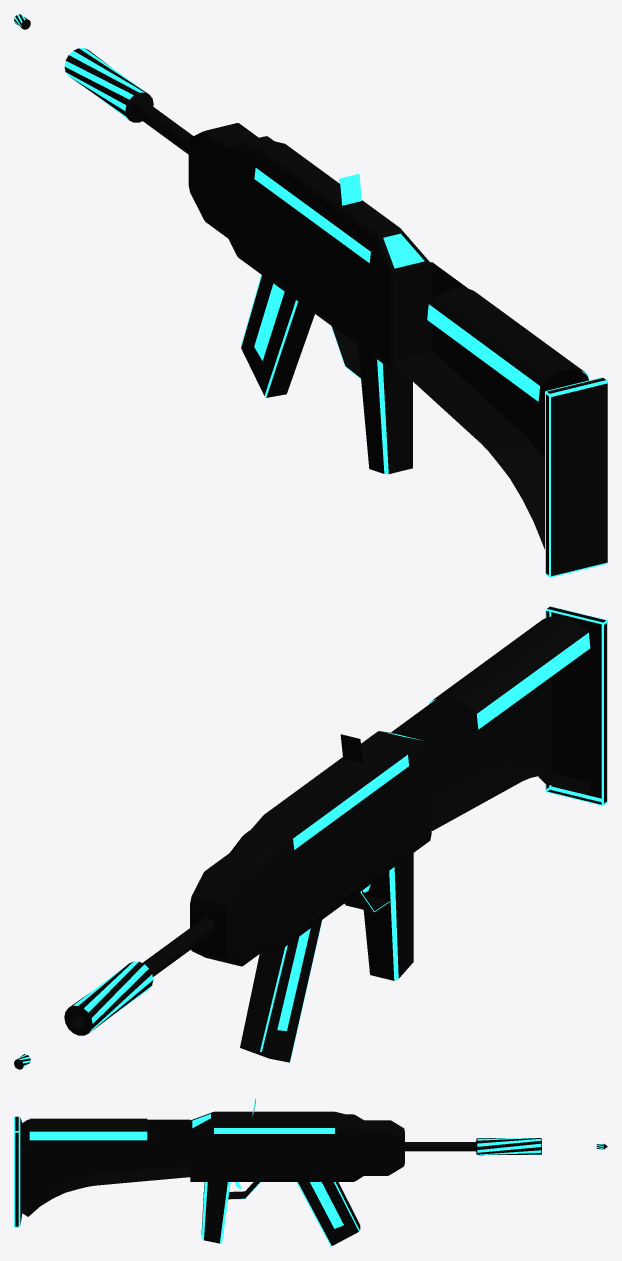
Rendered from JenzRöjehagGun.fbx.
3 renders of one model, top to bottom at view 1: azimuth 30°, elevation 25°; view 2: azimuth 150°, elevation 25°; view 3: azimuth 270°, elevation 25°, orthographic. The views are drawn at different scales.
Visible parts, largest first — view 1: Handel, MainGun, HandelAndTrigger, Magazin, BarrelAndSilencer; view 2: MainGun, Handel, Magazin, HandelAndTrigger, BarrelAndSilencer; view 3: MainGun, Handel, Magazin, BarrelAndSilencer, HandelAndTrigger.
Part boxes in pixels (left/top/right/bottom): Handel: left=390, top=262, right=607, bottom=577; MainGun: left=188, top=123, right=431, bottom=371; HandelAndTrigger: left=331, top=326, right=412, bottom=474; Magazin: left=241, top=274, right=314, bottom=397; BarrelAndSilencer: left=64, top=48, right=193, bottom=154; MainGun: left=190, top=731, right=431, bottom=966; Handel: left=391, top=606, right=607, bottom=830; Magazin: left=240, top=920, right=322, bottom=1062; HandelAndTrigger: left=344, top=853, right=413, bottom=980; BarrelAndSilencer: left=64, top=918, right=215, bottom=1035; MainGun: left=190, top=1099, right=404, bottom=1181; Handel: left=14, top=1116, right=190, bottom=1227; Magazin: left=296, top=1182, right=360, bottom=1246; BarrelAndSilencer: left=405, top=1138, right=541, bottom=1155; HandelAndTrigger: left=201, top=1182, right=260, bottom=1243.
Size of the model in its own units: 60 by 269 by 1010.
